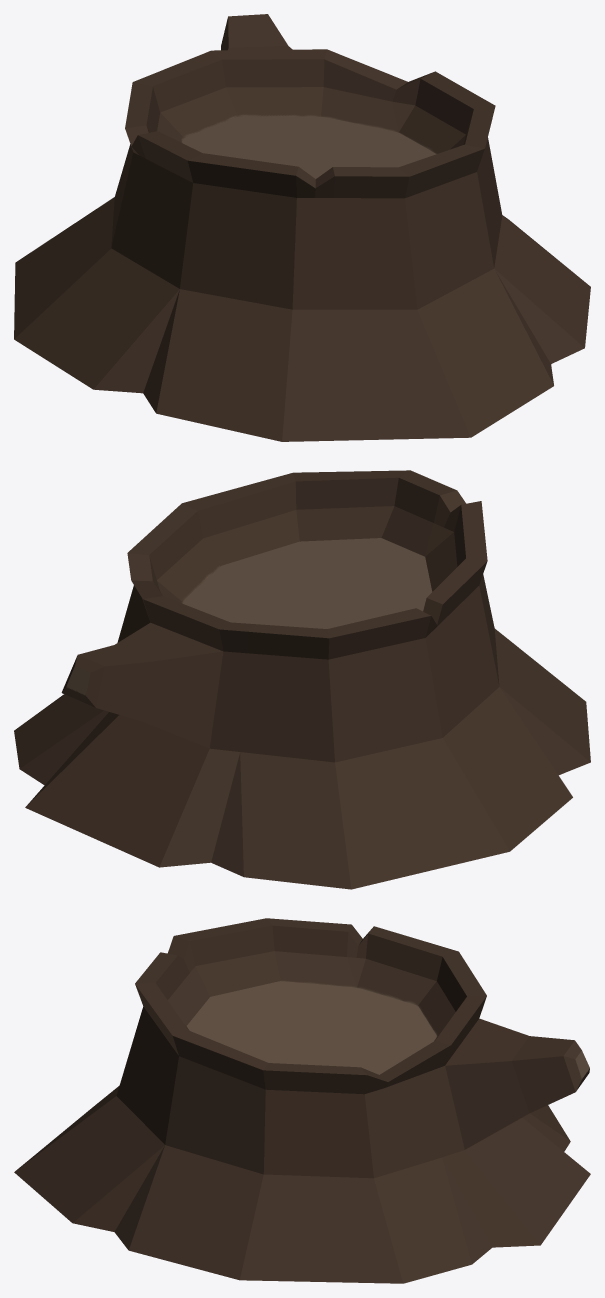
Rendered from DarkerTrunk.fbx.
The picture shows the model from 3 angles, top to bottom: view 1: azimuth 30°, elevation 25°; view 2: azimuth 150°, elevation 25°; view 3: azimuth 270°, elevation 25°; orthographic projection. The views are drawn at different scales.
Parts seen in each view (by area): view 1: Cylinder.004; view 2: Cylinder.004; view 3: Cylinder.004.
Part boxes in pixels (x1,y1,x2,y2): Cylinder.004: [14, 14, 590, 441]; Cylinder.004: [14, 470, 590, 889]; Cylinder.004: [14, 918, 590, 1283].
Bounding box in the file's own units: 59.19 × 25.04 × 66.1.
